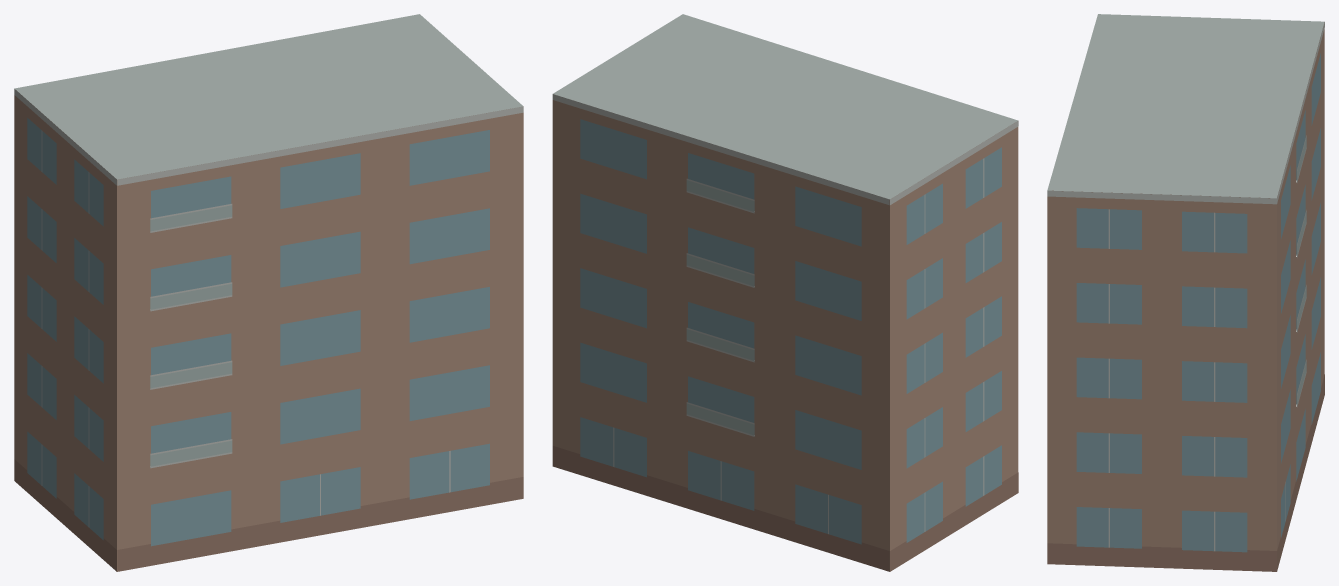
The model's file is survey-upis-32980908.glb.
3 renders of one model, left to right at view 1: azimuth 30°, elevation 25°; view 2: azimuth 150°, elevation 25°; view 3: azimuth 270°, elevation 25°, orthographic. The views are drawn at different scales.
Visible parts, largest first — view 1: survey-upis-32980908.tmp; view 2: survey-upis-32980908.tmp; view 3: survey-upis-32980908.tmp.
Part boxes in pixels (x1,y1,x2,y2): survey-upis-32980908.tmp: (14, 14, 523, 571); survey-upis-32980908.tmp: (552, 14, 1018, 571); survey-upis-32980908.tmp: (1047, 14, 1324, 571).
Size of the model in its own units: 16.2 by 15.3 by 10.31.
